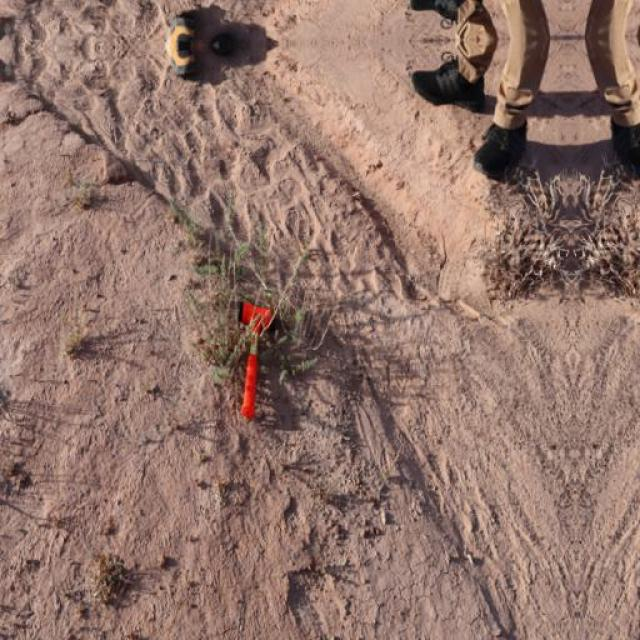mallet: (235, 299, 274, 420)
